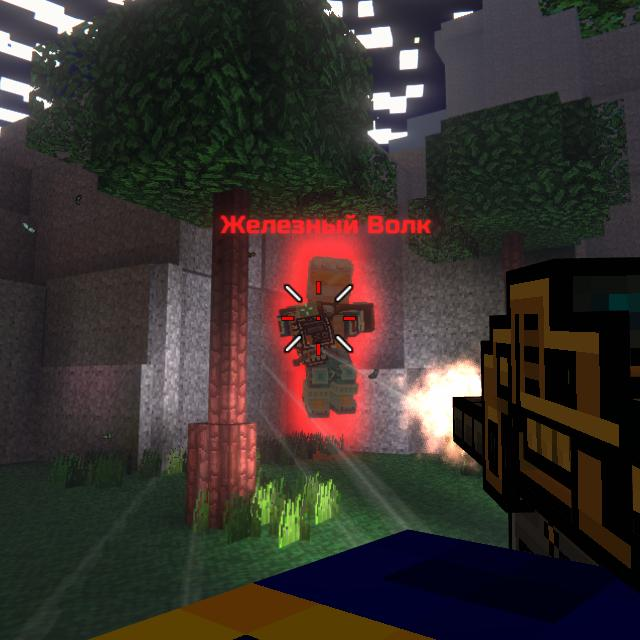Enemy: (277, 256, 376, 418)
